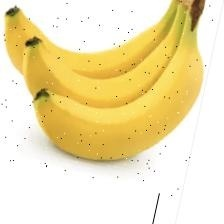banana: (23, 34, 221, 205)
